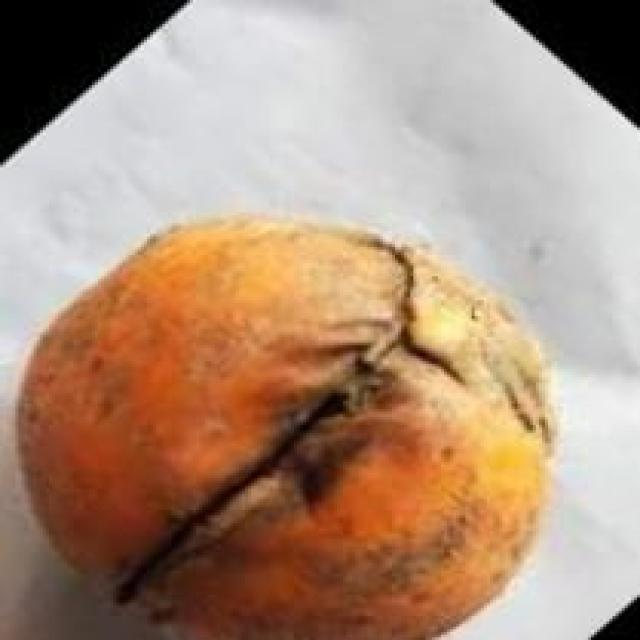damaged: (15, 215, 563, 637)
